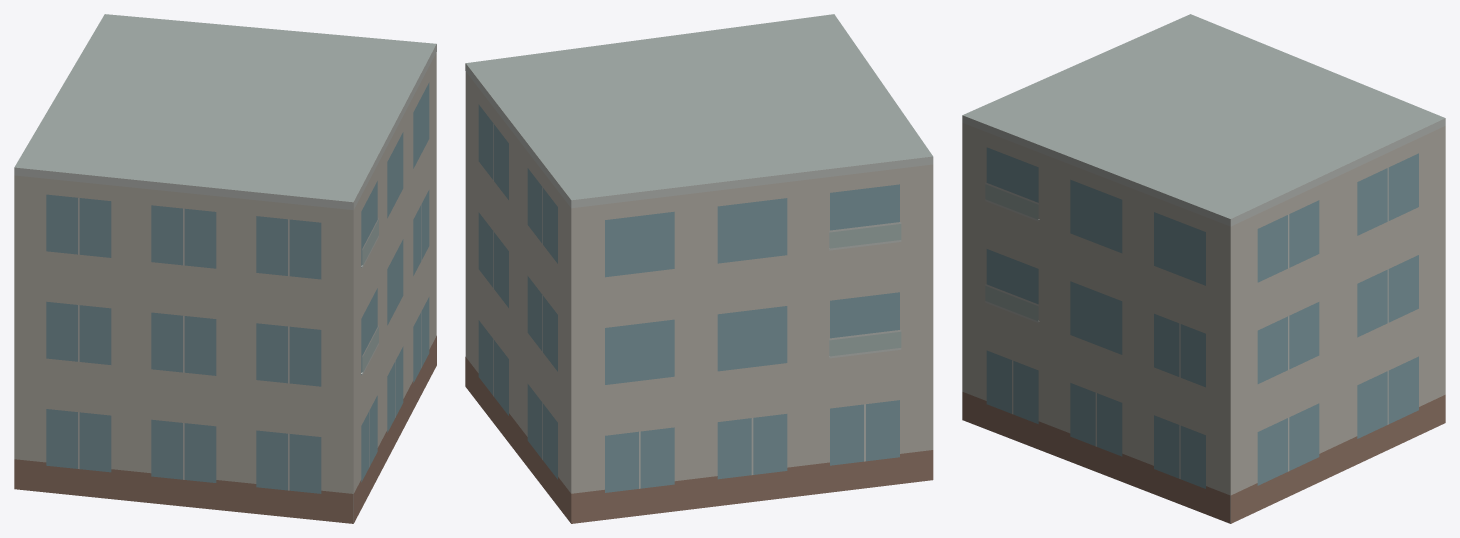
The model's file is survey-upis-32618955.glb.
3 renders of one model, left to right at view 1: azimuth 30°, elevation 25°; view 2: azimuth 150°, elevation 25°; view 3: azimuth 270°, elevation 25°, orthographic. The views are drawn at different scales.
Parts seen in each view (by area): view 1: survey-upis-32618955.tmp; view 2: survey-upis-32618955.tmp; view 3: survey-upis-32618955.tmp.
Boxes of the visible parts, <box> form: survey-upis-32618955.tmp: <box>14,14,436,523</box>; survey-upis-32618955.tmp: <box>465,14,933,523</box>; survey-upis-32618955.tmp: <box>962,14,1445,523</box>.
Bounding box in the file's own units: 14.3 × 9.9 × 14.24.
